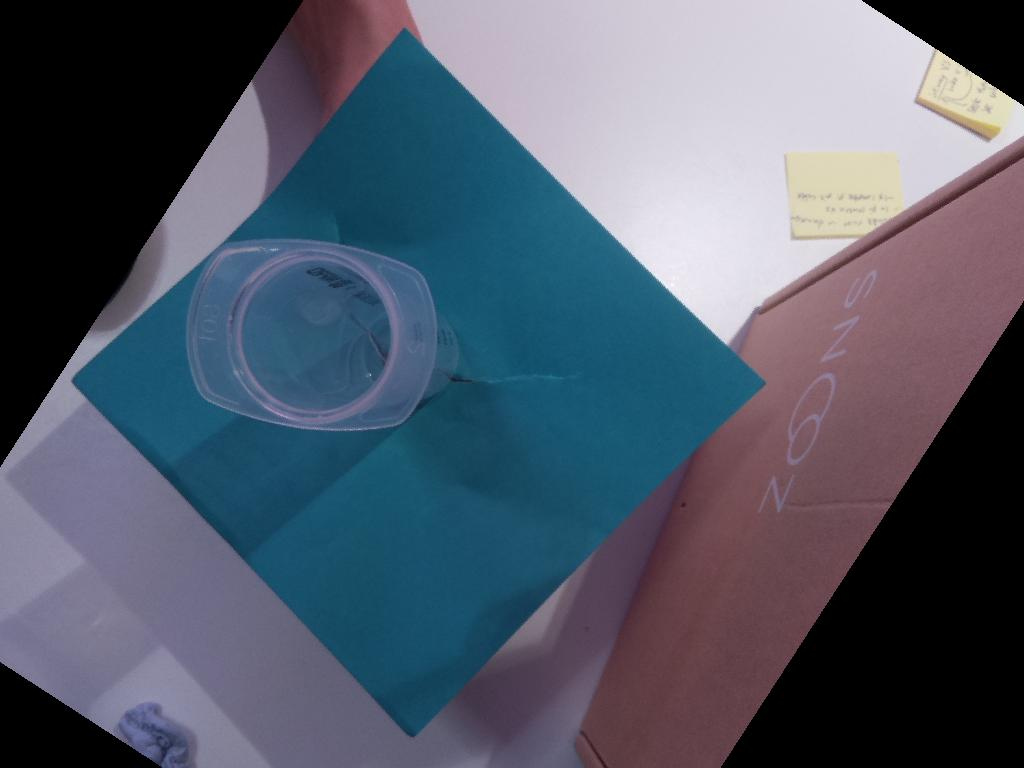clean: (183, 239, 439, 432)
